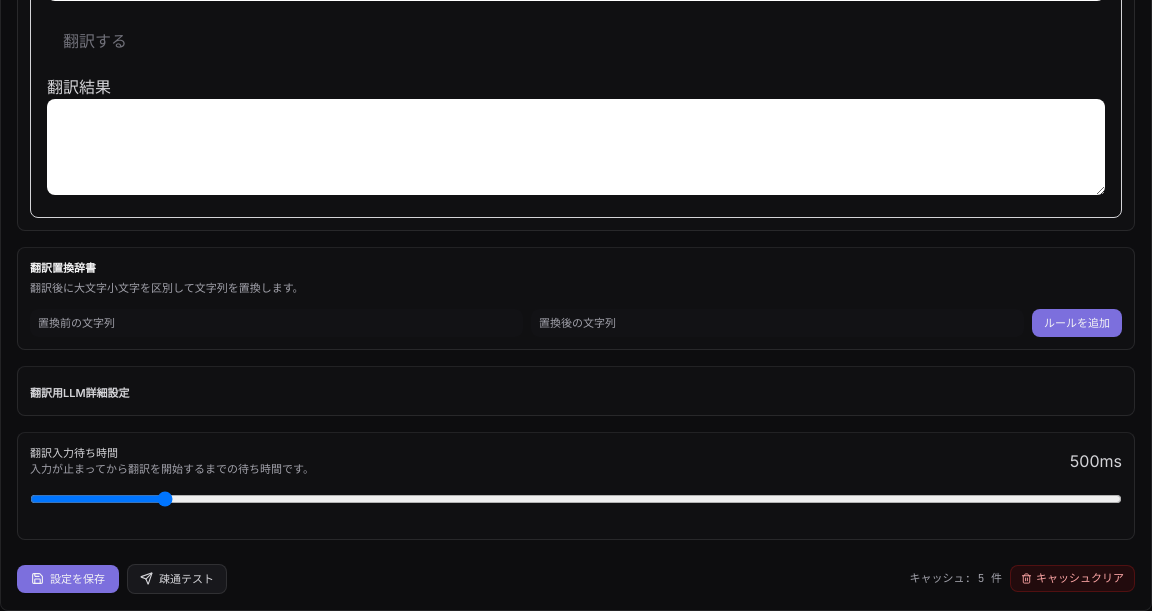
Test: TranslationSettingsSection › displays the API connection failure reason
This screenshot has width=1152, height=611.
(page scrolled)
Step 1. Click the button "疎通テスト" → (177, 578), box x1=127 y1=564 x2=227 y2=594
(page scrolled)
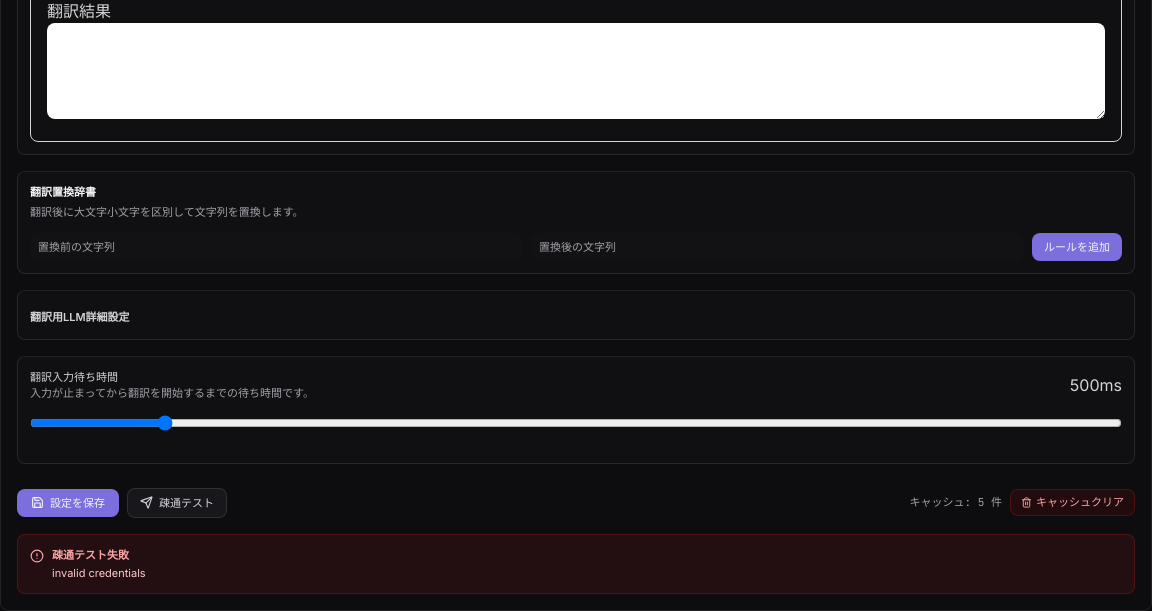
Expected: the text "疎通テスト失敗" is shown, x1=52 y1=548 x2=129 y2=562
Expected: the text "invalid credentials" is shown, x1=52 y1=564 x2=146 y2=580
